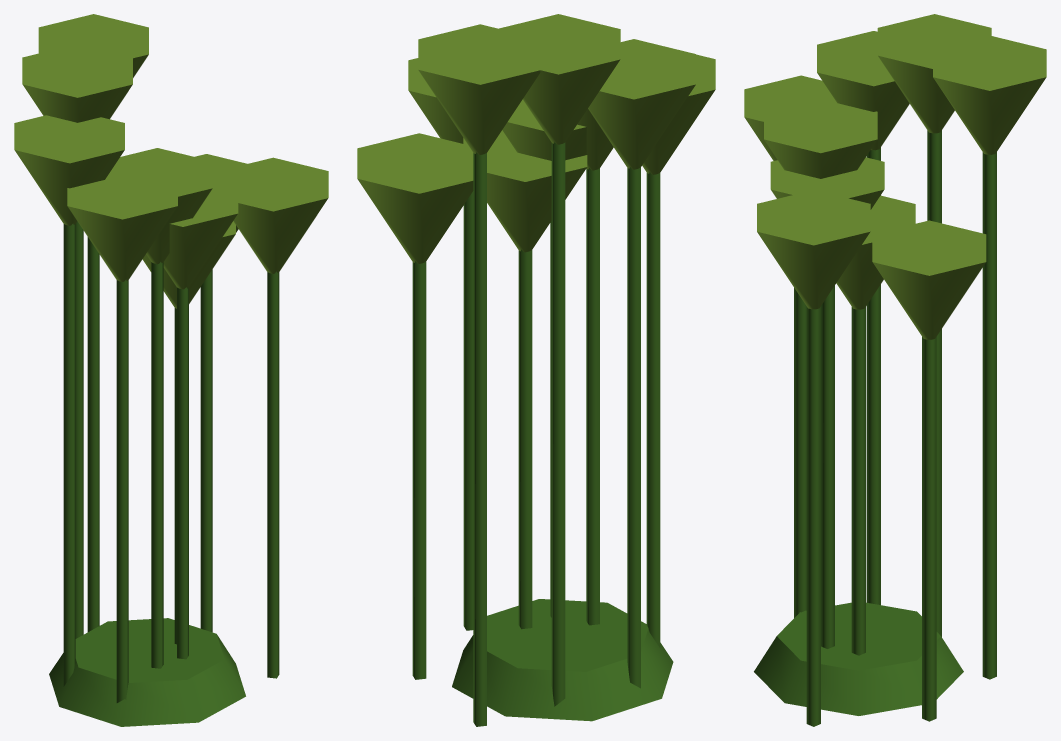
The model's file is eg_papyrus.glb.
The picture shows the model from 3 angles, left to right: view 1: azimuth 30°, elevation 25°; view 2: azimuth 150°, elevation 25°; view 3: azimuth 270°, elevation 25°; orthographic projection. The views are drawn at different scales.
Parts seen in each view (by area): view 1: eg_papyrus; view 2: eg_papyrus; view 3: eg_papyrus.
Part boxes in pixels (x1,y1,x2,y2): eg_papyrus: (14, 14, 328, 726); eg_papyrus: (357, 14, 715, 726); eg_papyrus: (744, 14, 1046, 726).
Size of the model in its own units: 1.03 by 2.06 by 0.9205.
